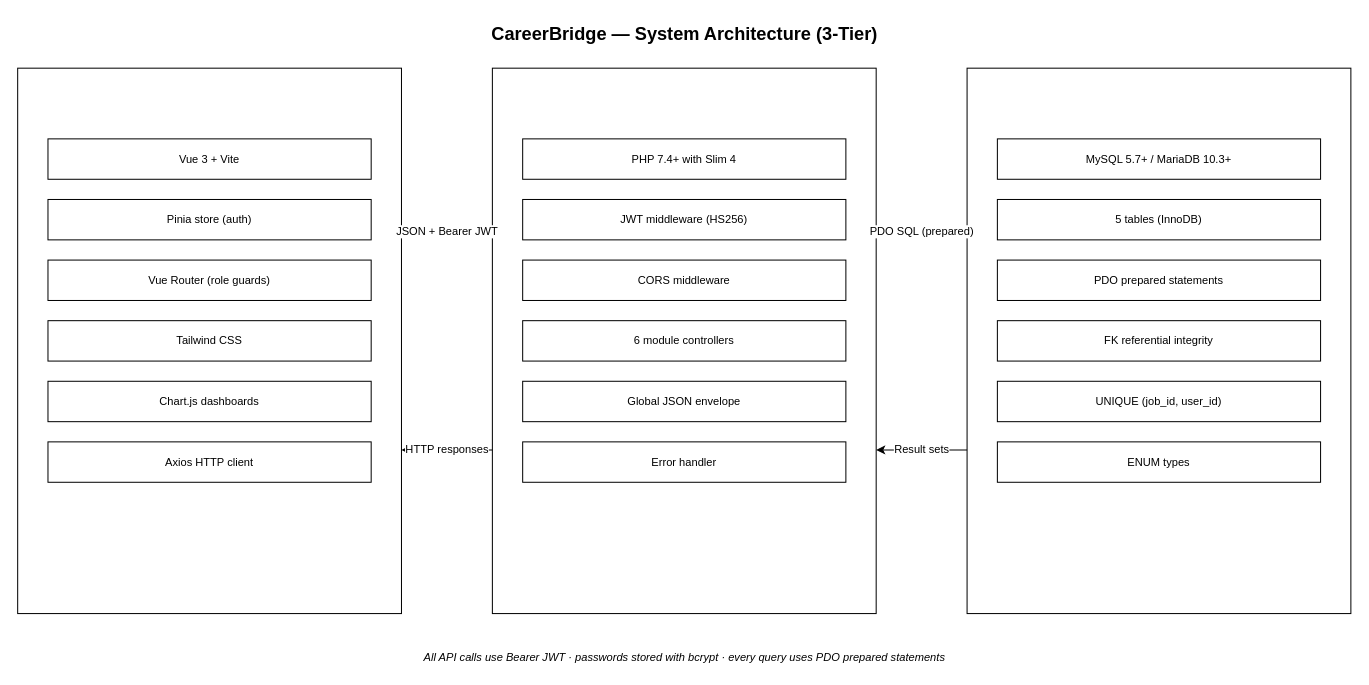
Image size: 1369x685. Some labels were removed from this diagram. Here are the shapes that lost their labels. From the top down, the box of each, then its label:
(17, 67, 401, 614): Presentation Tier (Browser / SPA)
(491, 67, 876, 614): Application Tier (REST API)
(966, 67, 1351, 614): Data Tier (RDBMS)
